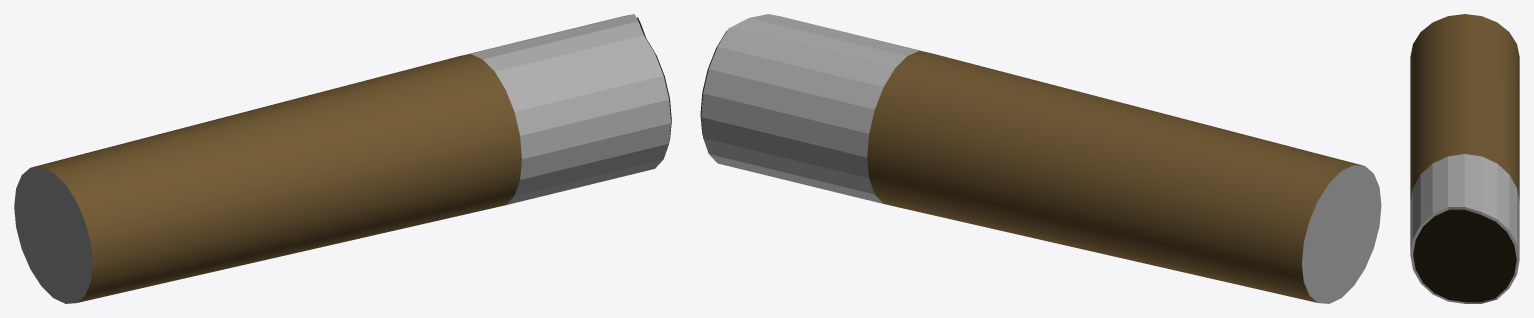
The model's file is Cigarette Butt.fbx.
3 views of the same model, side by side, from view 1: azimuth 30°, elevation 25°; view 2: azimuth 150°, elevation 25°; view 3: azimuth 270°, elevation 25° (orthographic). The views are drawn at different scales.
Parts seen in each view (by area): view 1: pCylinder1; view 2: pCylinder1; view 3: pCylinder1.
Boxes of the visible parts, box(x1,y1,x2,y2) form: pCylinder1: box(14, 14, 671, 303); pCylinder1: box(700, 14, 1381, 303); pCylinder1: box(1410, 14, 1519, 303).
Bounding box in the file's own units: 8.75 × 2 × 2.
